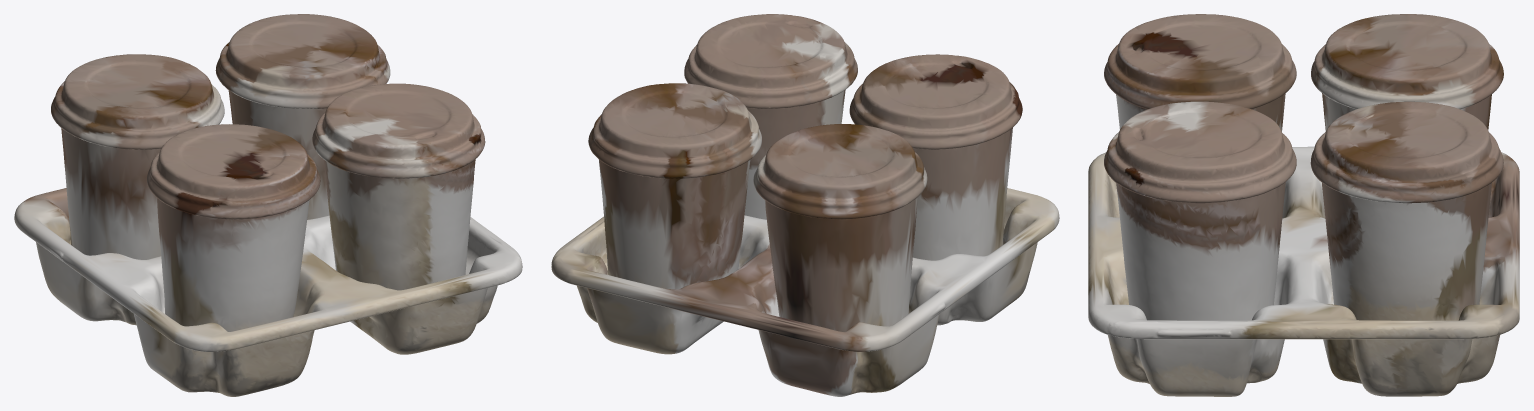
File: coffee_carrier.glb
3 renders of one model, left to right at view 1: azimuth 30°, elevation 25°; view 2: azimuth 150°, elevation 25°; view 3: azimuth 270°, elevation 25°, orthographic. The views are drawn at different scales.
Parts seen in each view (by area): view 1: geometry_0; view 2: geometry_0; view 3: geometry_0.
Part boxes in pixels (left/top/right/bottom): geometry_0: left=14, top=14, right=522, bottom=396; geometry_0: left=551, top=14, right=1059, bottom=396; geometry_0: left=1088, top=14, right=1519, bottom=396.
Bounding box in the file's own units: 0.2386 × 0.14 × 0.2363.
